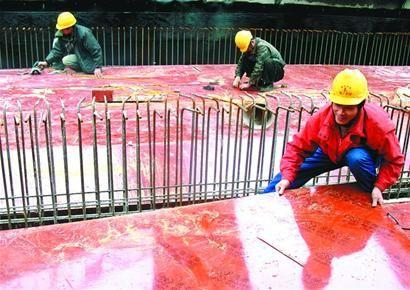boots: (30, 61, 43, 75), (240, 83, 257, 90)
hard-hat: (328, 68, 369, 105), (233, 29, 252, 52), (55, 11, 77, 30)
person: (262, 67, 405, 208), (32, 10, 104, 78), (231, 30, 285, 92)
